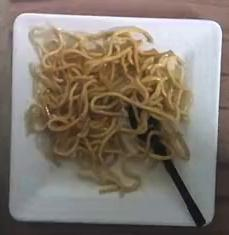asian_noodles: (25, 26, 191, 191)
